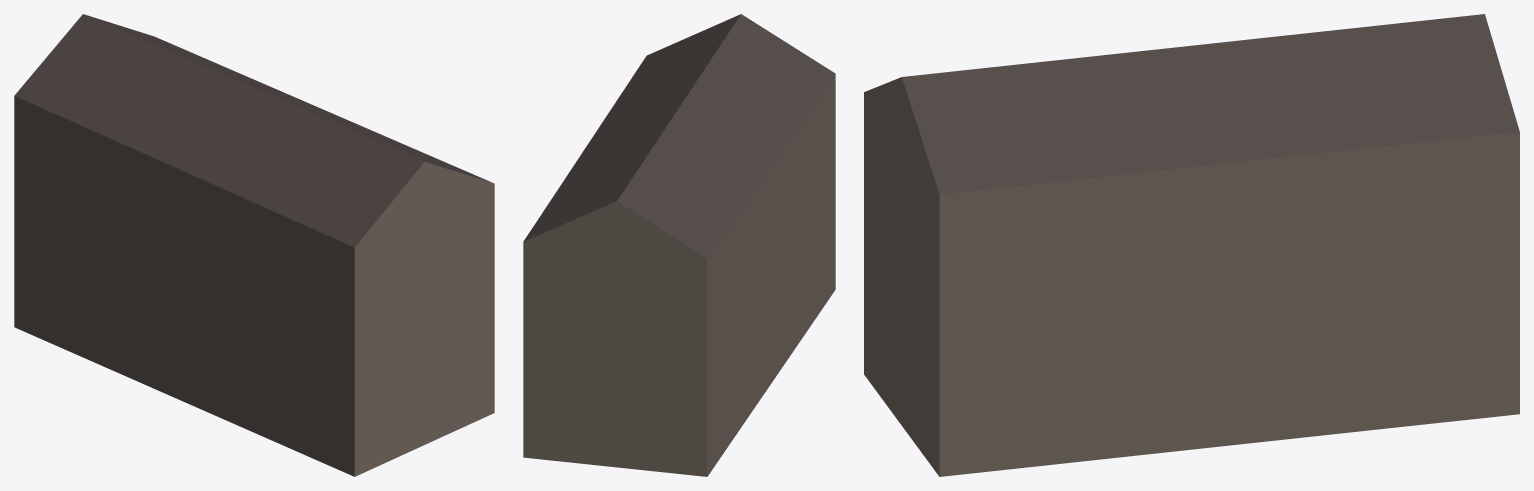
The picture shows the model from 3 angles, left to right: view 1: azimuth 30°, elevation 25°; view 2: azimuth 150°, elevation 25°; view 3: azimuth 270°, elevation 25°; orthographic projection. The views are drawn at different scales.
Parts seen in each view (by area): view 1: HP-w1516161901; view 2: HP-w1516161901; view 3: HP-w1516161901.
Boxes of the visible parts, x1,y1,x2,y2 form: HP-w1516161901: (14,14,494,476); HP-w1516161901: (523,14,835,476); HP-w1516161901: (864,14,1519,476).
Bounding box in the file's own units: 7.46 × 7.41 × 12.63.
